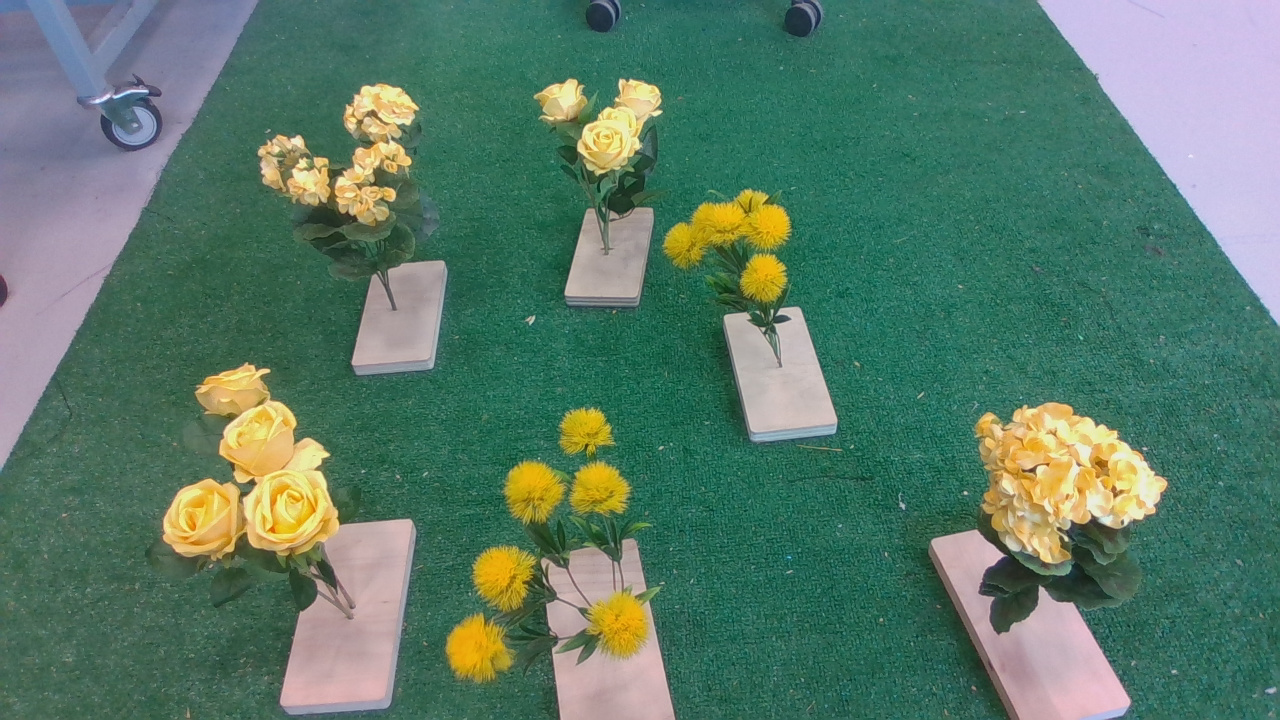dandelion: (443, 403, 678, 696), (663, 183, 804, 348)
geranium: (959, 393, 1176, 645), (258, 82, 450, 279)
rose: (143, 365, 350, 623), (527, 79, 678, 200)
